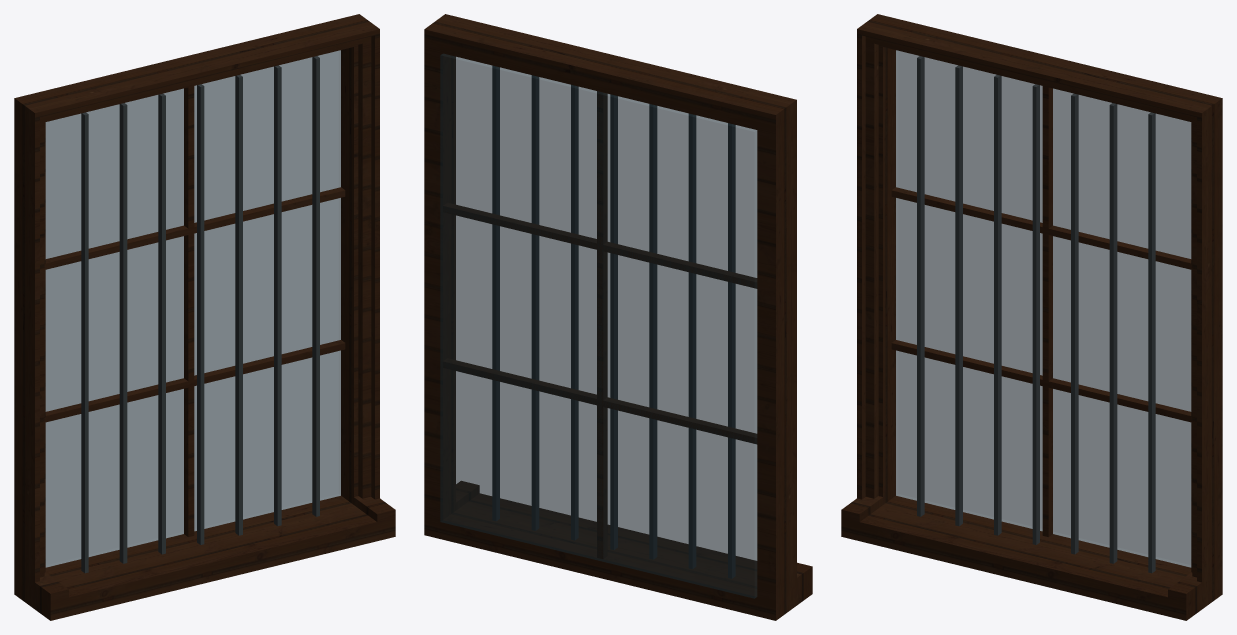
Rendered from madera_rectangle_con_reja.glb.
The picture shows the model from 3 angles, left to right: view 1: azimuth 30°, elevation 25°; view 2: azimuth 150°, elevation 25°; view 3: azimuth 330°, elevation 25°; orthographic projection.
Parts seen in each view (by area): view 1: window_glass#0001, window_grille#0001, window_reveal#0001, window_sill#0001, window_profile#0020, window_mullion#0001, window_profile#0001, window_profile#0010, window_profile#0009, window_profile#0017, window_profile#0019, window_profile#0018 (+7 smaller); view 2: window_glass#0001, window_reveal#0001, window_grille#0001, window_mullion#0001, window_profile#0020, window_sill#0001, window_profile#0001; view 3: window_glass#0001, window_grille#0001, window_reveal#0001, window_sill#0001, window_mullion#0001, window_profile#0020, window_profile#0010, window_profile#0009, window_profile#0001, window_profile#0017, window_profile#0019, window_profile#0018 (+7 smaller).
Part boxes in pixels (x1,y1,x2,y2): window_glass#0001: (45, 50, 340, 567); window_grille#0001: (81, 56, 319, 573); window_reveal#0001: (14, 14, 369, 602); window_sill#0001: (35, 496, 395, 620); window_profile#0020: (24, 21, 379, 609); window_mullion#0001: (45, 86, 345, 536); window_profile#0001: (44, 45, 354, 578); window_profile#0010: (40, 38, 366, 577); window_profile#0009: (42, 41, 364, 576); window_profile#0017: (38, 34, 376, 581); window_profile#0019: (36, 30, 378, 581); window_profile#0018: (37, 32, 377, 581); window_glass#0001: (440, 53, 757, 598); window_reveal#0001: (424, 21, 786, 620); window_grille#0001: (492, 66, 735, 578); window_mullion#0001: (443, 91, 757, 558); window_profile#0020: (435, 14, 796, 612); window_sill#0001: (451, 481, 812, 615); window_profile#0001: (453, 56, 756, 586); window_glass#0001: (896, 50, 1191, 567); window_grille#0001: (917, 56, 1155, 573); window_reveal#0001: (866, 14, 1222, 602); window_sill#0001: (841, 496, 1201, 620); window_mullion#0001: (891, 86, 1191, 536); window_profile#0020: (857, 21, 1212, 609); window_profile#0010: (870, 38, 1196, 577); window_profile#0009: (872, 41, 1194, 576); window_profile#0001: (882, 45, 1192, 576); window_profile#0017: (860, 34, 1198, 581); window_profile#0019: (858, 30, 1200, 581); window_profile#0018: (859, 32, 1199, 581).
Bounding box in the file's own units: 1.6 × 2.2 × 0.31.
Materials: 3 (1 with a texture image).
